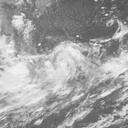cyclone: (36, 37, 96, 92)
